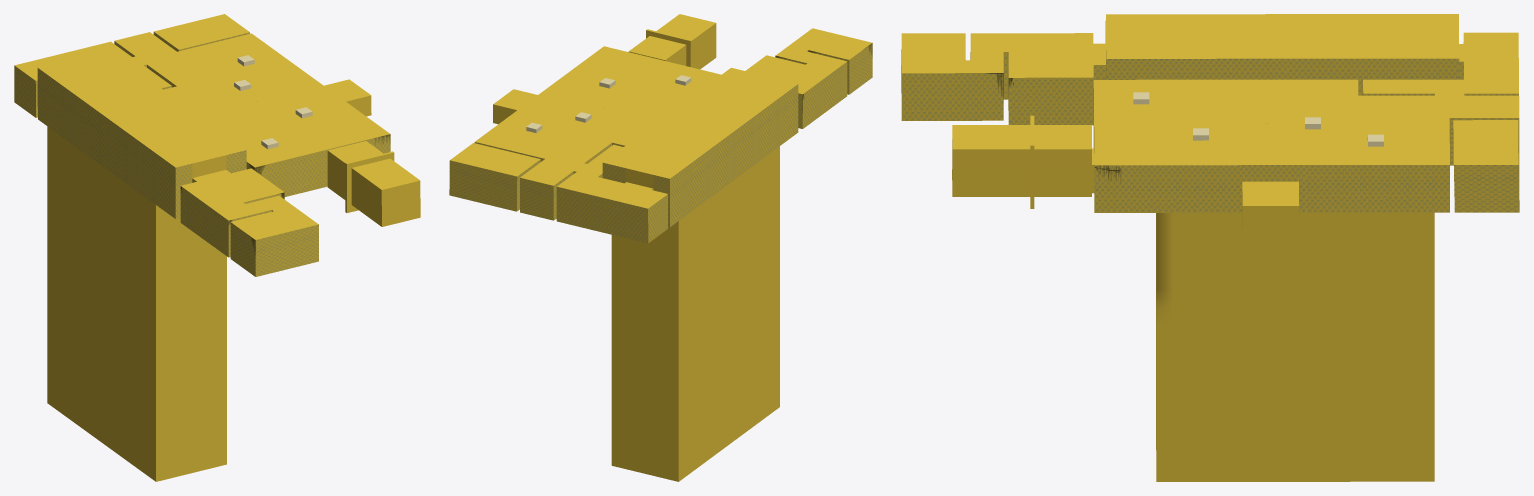
The model's file is map.fbx.
3 views of the same model, side by side, from view 1: azimuth 30°, elevation 25°; view 2: azimuth 150°, elevation 25°; view 3: azimuth 270°, elevation 25° (orthographic). The views are drawn at different scales.
Visible parts, largest first — view 1: polySurface3, pCube3; view 2: polySurface3, pCube3; view 3: polySurface3.
Part boxes in pixels (x1,y1,x2,y2): polySurface3: (14,14,420,481); pCube3: (345,151,394,212); polySurface3: (449,14,872,481); pCube3: (646,29,692,67); polySurface3: (901,14,1519,481).
Bounding box in the file's own units: 410 × 515 × 682.
1 material, 1 textured.
